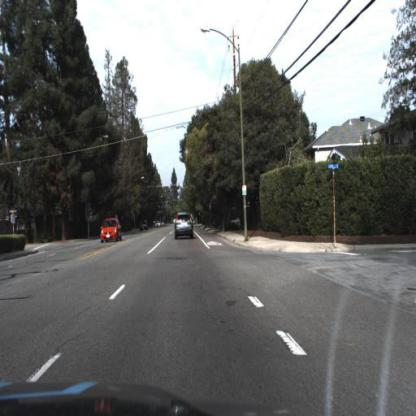car: (174, 210, 195, 243), (100, 217, 123, 244), (140, 220, 150, 232)
